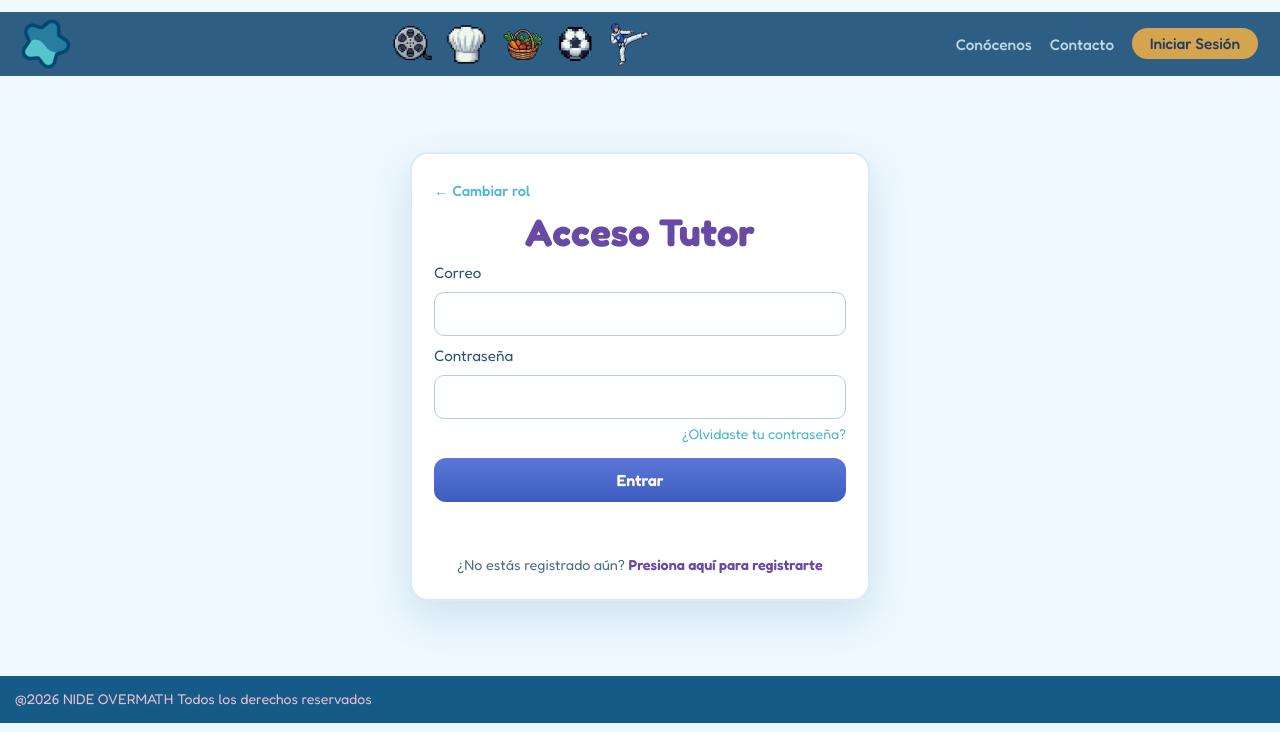
it: LoginPage › muestra error si la contraseña tiene menos de 8 caracteres
Step 1. Type "tutor@test.com" into the field labelled "Correo" → [640, 314], box [434,292,846,336]
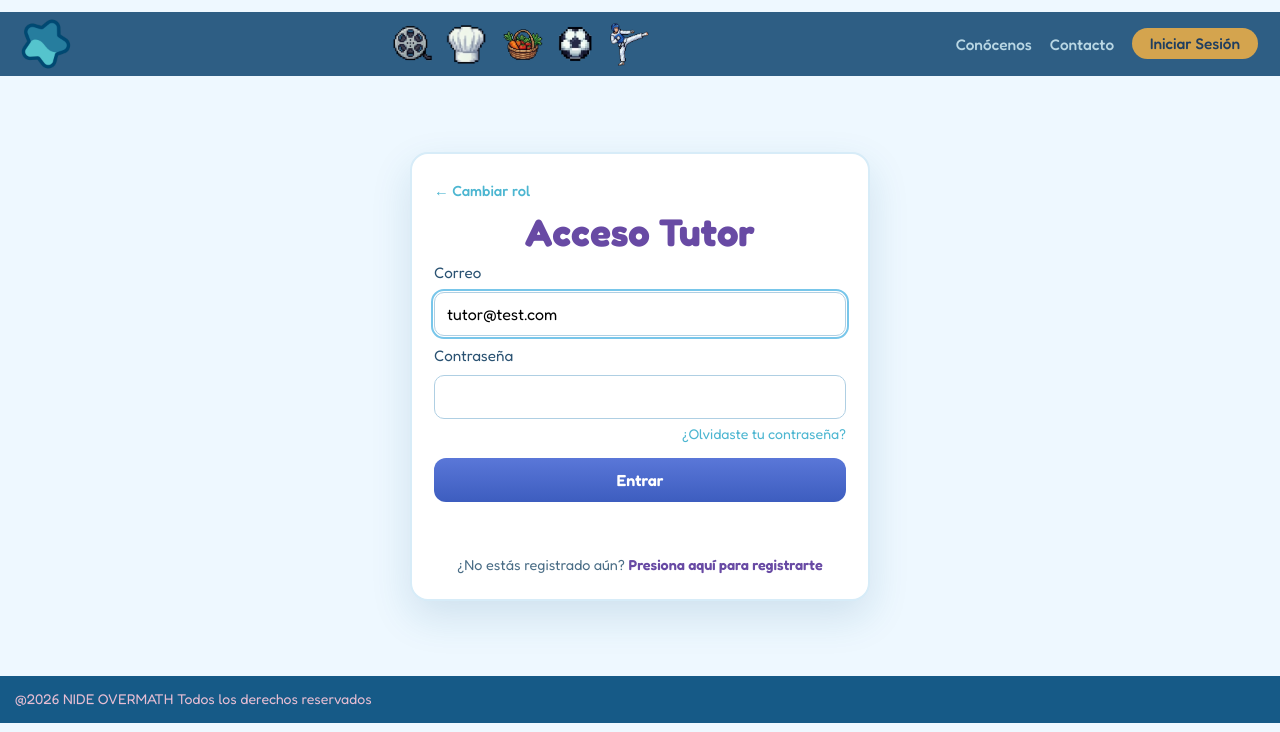
Step 2. Type "short" into the password field labelled "Contraseña" → [640, 396], box [434,374,846,418]
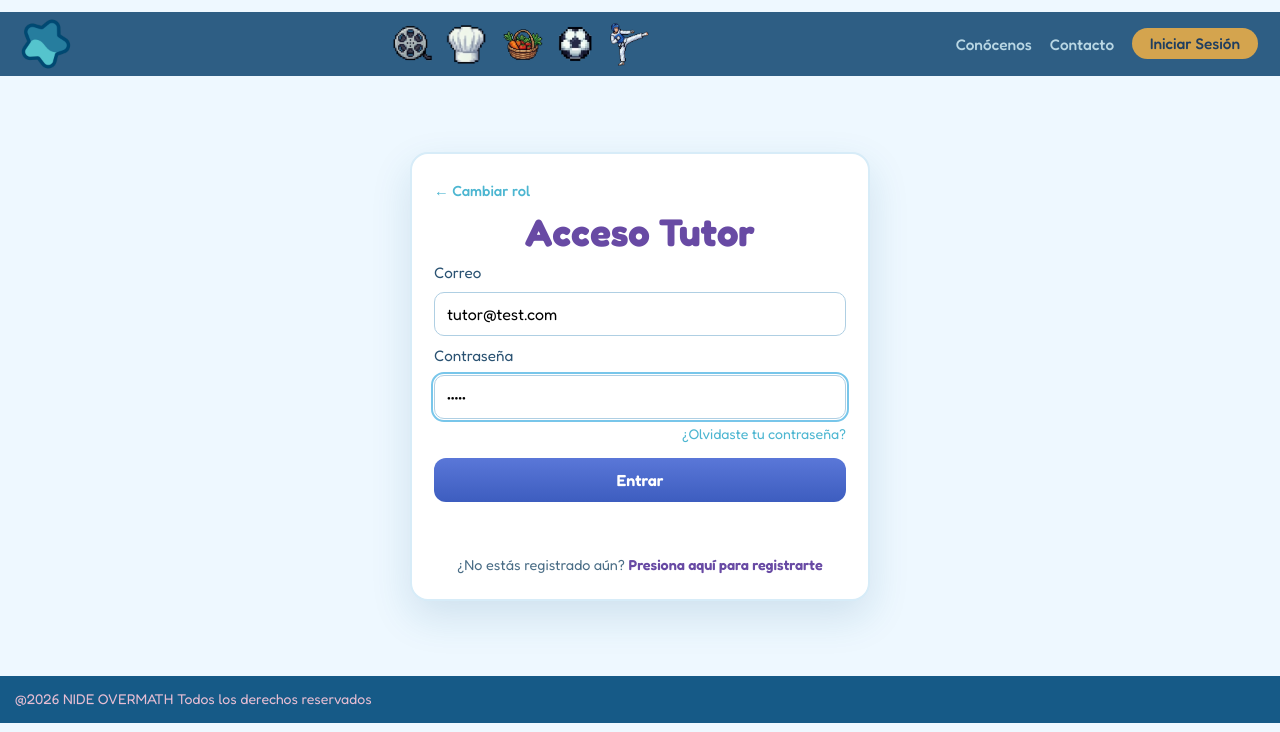
Step 3. Click the button "Entrar" → [640, 480], box [434,458,846,502]
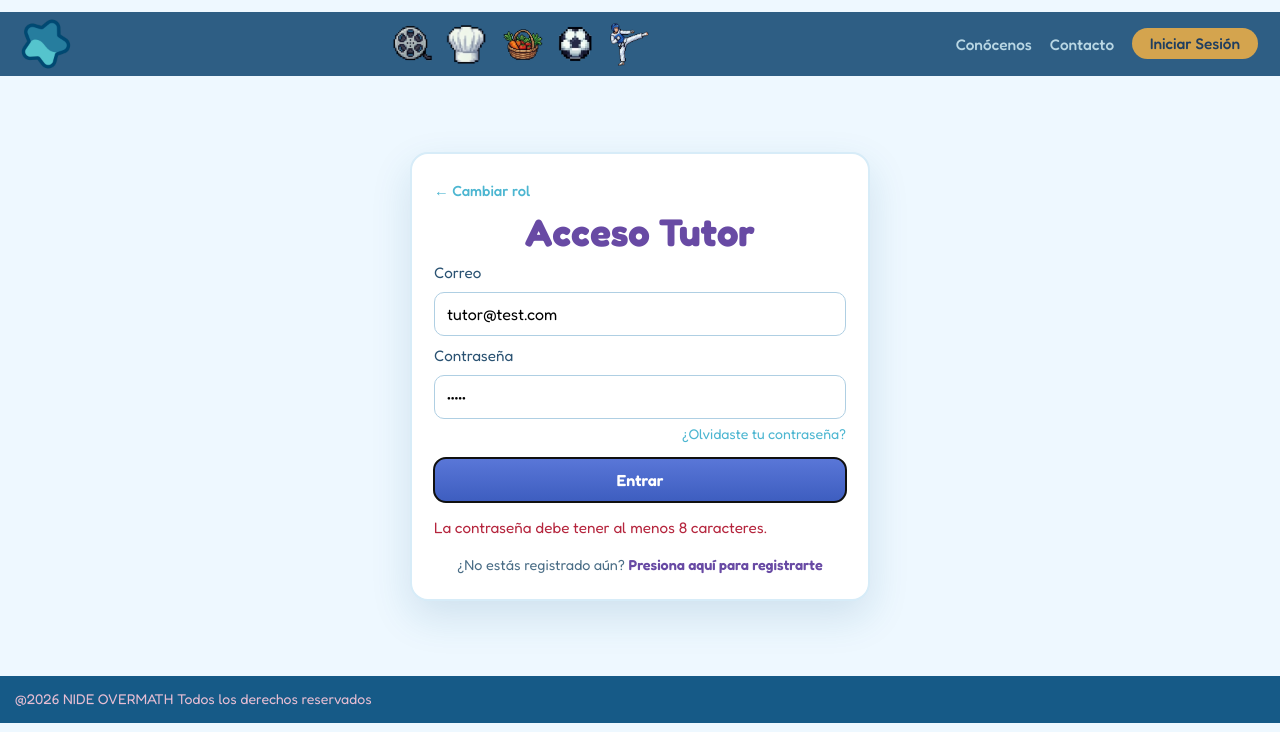
Result: the message reads "La contraseña debe tener al menos 8 caracteres." at [434,518,767,536]
